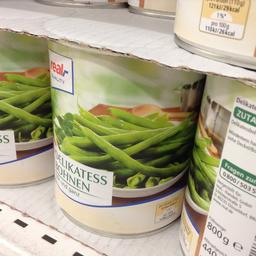beans: (42, 34, 190, 240)
